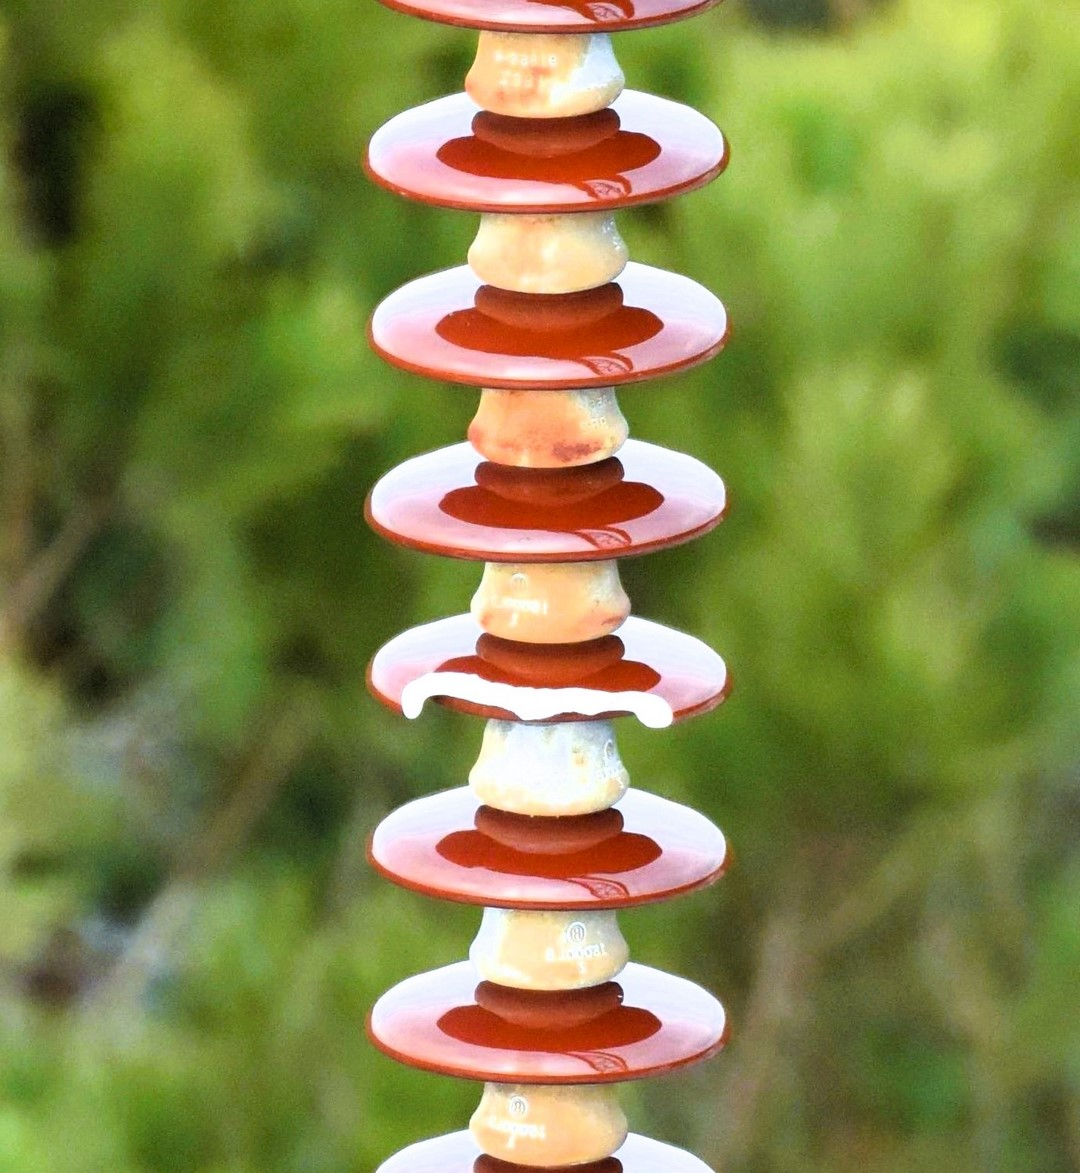insulator breakage: (359, 599, 739, 743)
